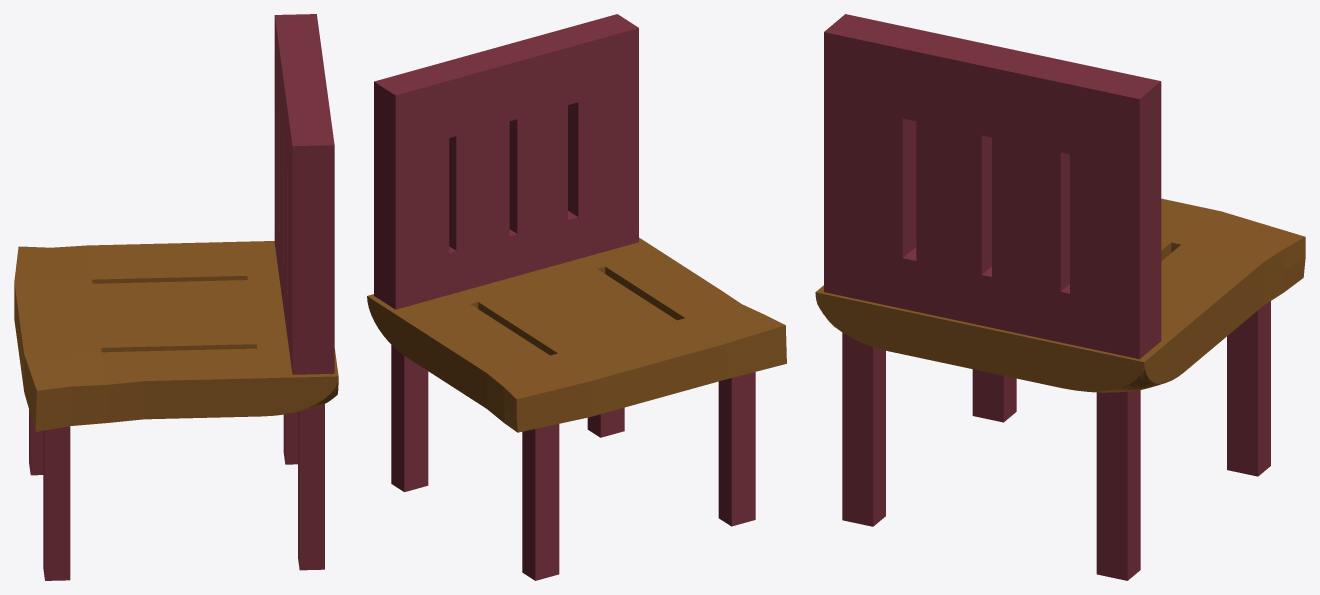
The model's file is Chair.glb.
3 renders of one model, left to right at view 1: azimuth 30°, elevation 25°; view 2: azimuth 150°, elevation 25°; view 3: azimuth 270°, elevation 25°, orthographic. The views are drawn at different scales.
Parts seen in each view (by area): view 1: Cube.005, Cube, Cube.006, Cube.007; view 2: Cube, Cube.005, Cube.007, Cube.006; view 3: Cube, Cube.005, Cube.006, Cube.007.
Boxes of the visible parts, bbox=[...] form: Cube.005: bbox=[14, 241, 338, 431]; Cube: bbox=[274, 14, 334, 374]; Cube.006: bbox=[283, 404, 324, 570]; Cube.007: bbox=[29, 410, 70, 580]; Cube: bbox=[374, 14, 638, 309]; Cube.005: bbox=[367, 237, 786, 432]; Cube.007: bbox=[522, 372, 755, 580]; Cube.006: bbox=[391, 345, 624, 492]; Cube: bbox=[824, 14, 1161, 359]; Cube.005: bbox=[815, 198, 1305, 392]; Cube.006: bbox=[842, 332, 1140, 580]; Cube.007: bbox=[972, 301, 1270, 476].
Size of the model in its own units: 3.58 by 4.06 by 3.65.
